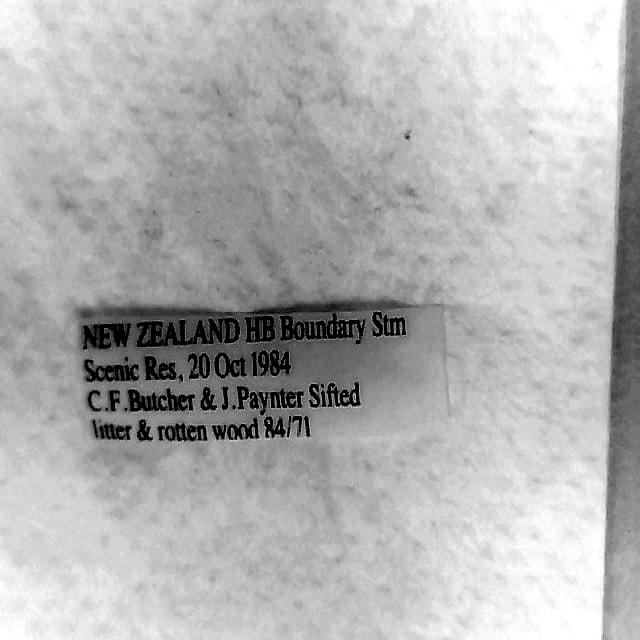typed_label: (81, 307, 448, 445)
